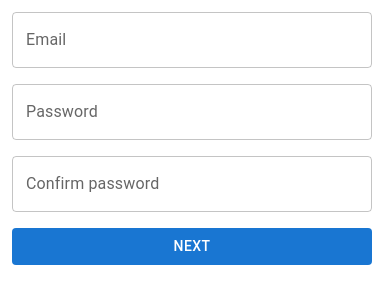
Test case: RegisterForm › rejects a weak password
In the field labelled "Email": (192, 40) left=12, top=12, right=372, bottom=68, type "a@b.com"
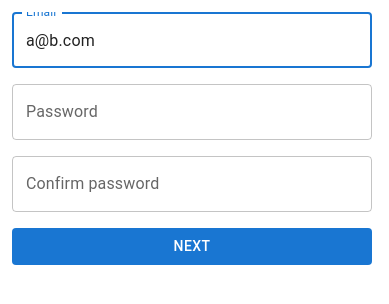
In the password field labelled "Password": (192, 112) left=12, top=84, right=372, bottom=140, type "weak"
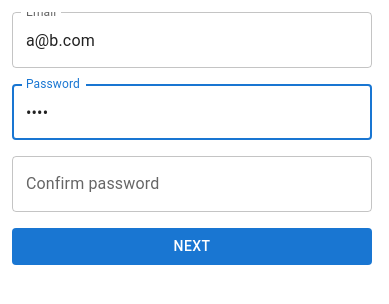
In the password field labelled "Confirm password": (192, 184) left=12, top=156, right=372, bottom=212, type "weak"
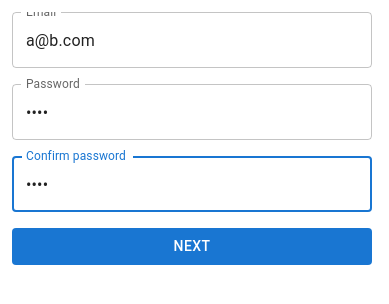
Click the button "Next": (192, 246) left=12, top=228, right=372, bottom=264
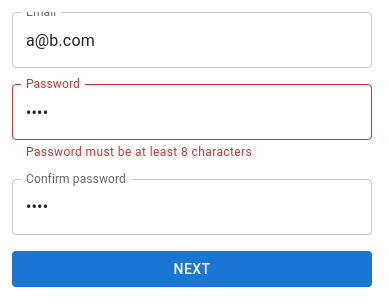
expect the text "Password must be at least 8 characters" is shown: met, box left=26, top=145, right=252, bottom=159
